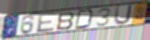3: (95, 7, 112, 27)
6: (20, 14, 35, 36)
B: (55, 11, 75, 31)
D: (74, 9, 96, 30)
E: (36, 12, 58, 34)
U: (113, 4, 135, 26)
